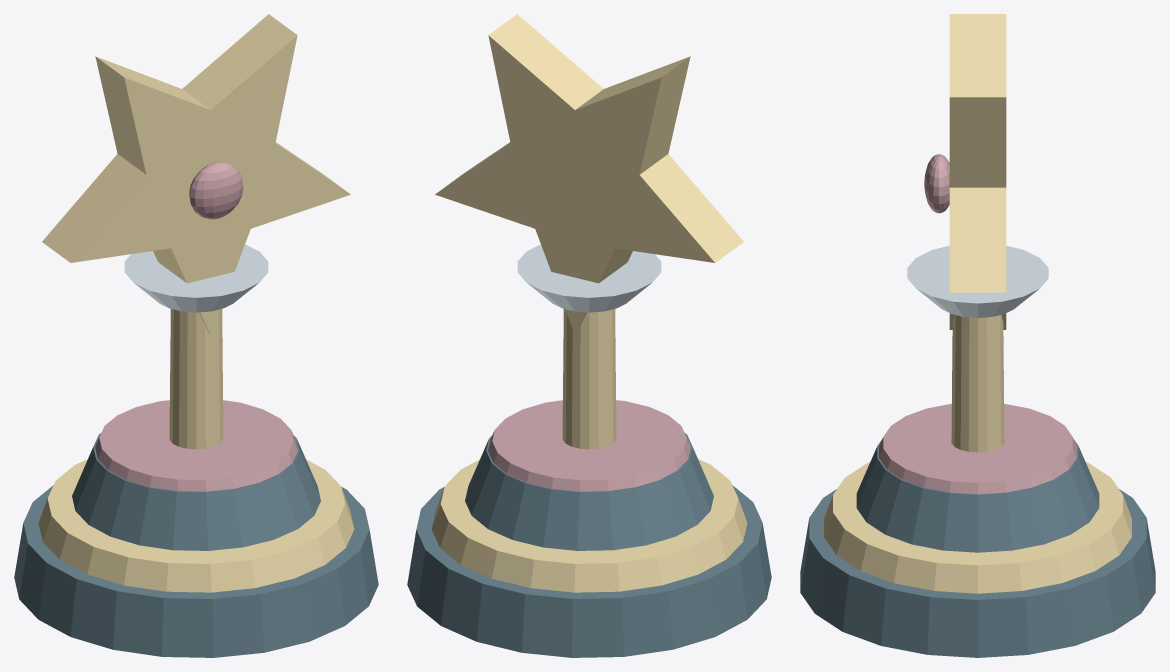
File: southwest-classic.glb
3 renders of one model, left to right at view 1: azimuth 30°, elevation 25°; view 2: azimuth 150°, elevation 25°; view 3: azimuth 270°, elevation 25°, orthographic.
Bounding box in the file's own units: 1.2 × 1.94 × 1.19.
